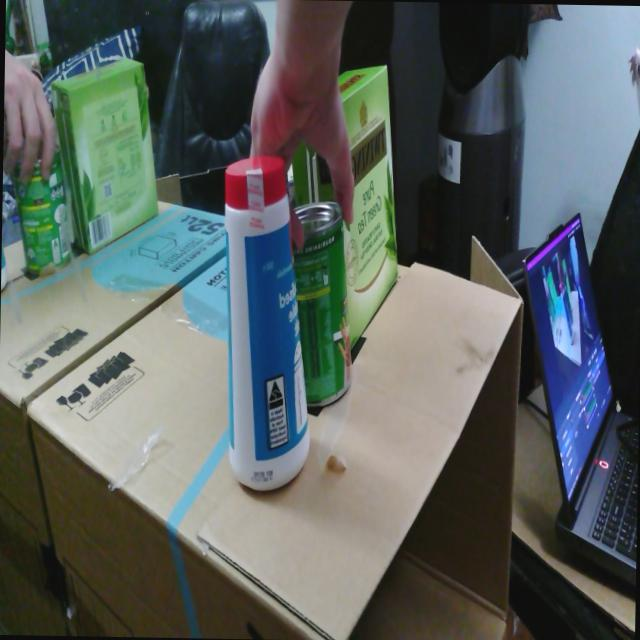nestle_milo_tin: (293, 201, 351, 405)
twinings_greentea_box: (338, 66, 397, 349), (292, 141, 335, 206)
woolworths_salt_bottle: (225, 155, 310, 490)
